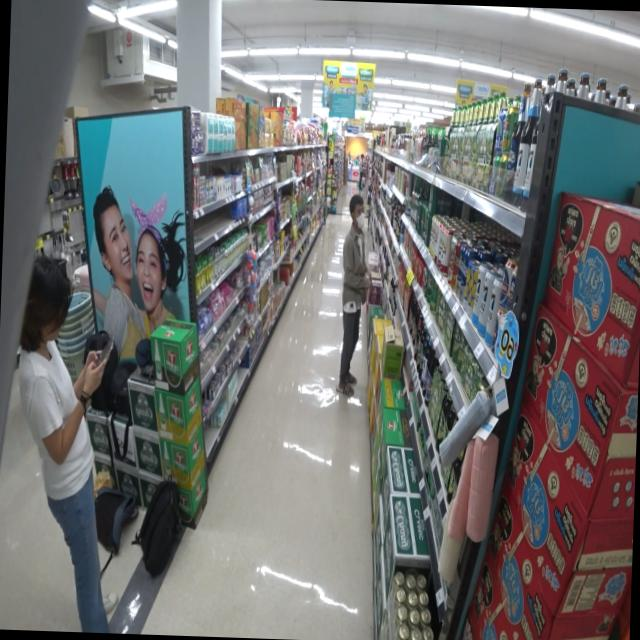shoplifting: (331, 190, 377, 397)
